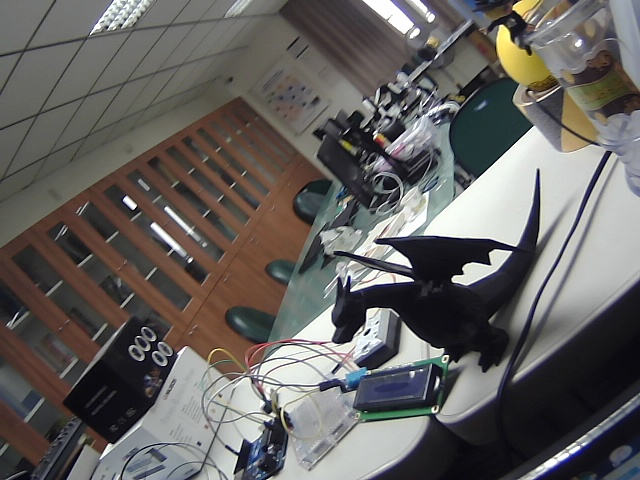charizard: (330, 166, 542, 391)
